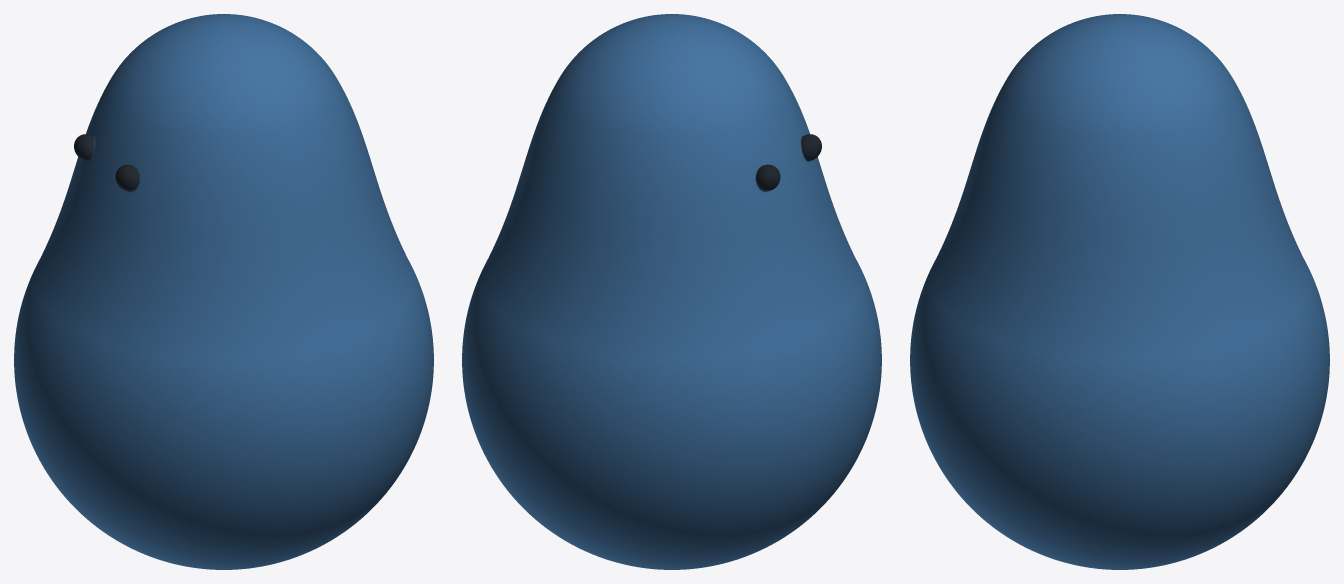
The picture shows the model from 3 angles, left to right: view 1: azimuth 30°, elevation 25°; view 2: azimuth 150°, elevation 25°; view 3: azimuth 270°, elevation 25°; orthographic projection.
Parts seen in each view (by area): view 1: 332319_23_07_18_13_30_42_0; view 2: 332319_23_07_18_13_30_42_0; view 3: 332319_23_07_18_13_30_42_0.
Part boxes in pixels (x1=…): 332319_23_07_18_13_30_42_0: x1=14, y1=14, x2=433, y2=569; 332319_23_07_18_13_30_42_0: x1=462, y1=14, x2=881, y2=569; 332319_23_07_18_13_30_42_0: x1=910, y1=14, x2=1329, y2=569.
Size of the model in its own units: 15.63 by 21.52 by 15.63.
Materials: 1 (1 with a texture image).
